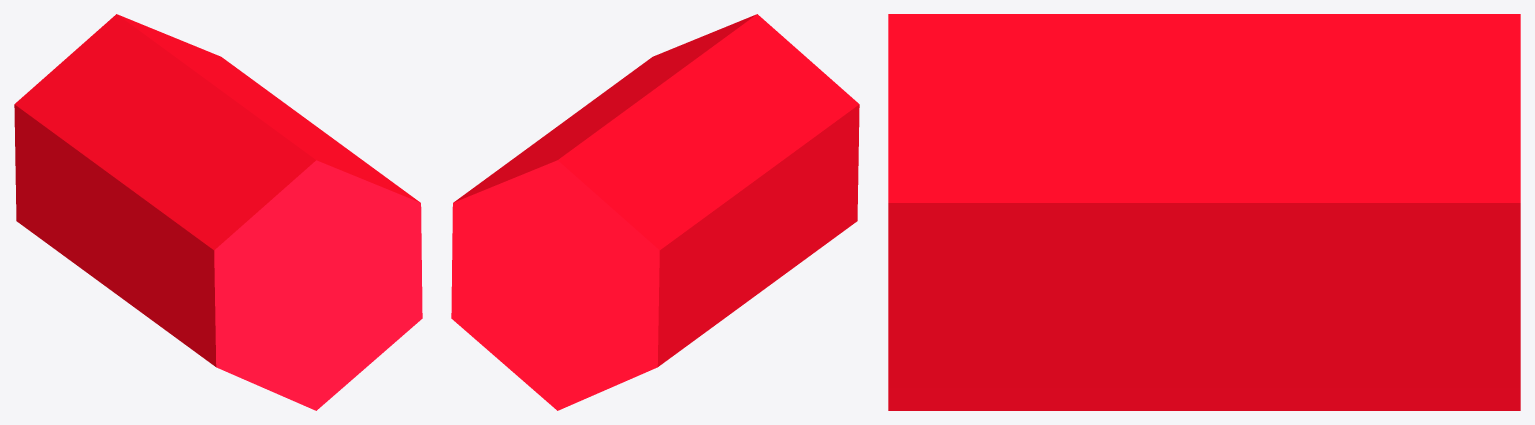
Rendered from fffb94a9-879b-4df0-a0eb-3e6f28705dd1.glb.
3 renders of one model, left to right at view 1: azimuth 30°, elevation 25°; view 2: azimuth 150°, elevation 25°; view 3: azimuth 270°, elevation 25°, orthographic. The views are drawn at different scales.
Parts seen in each view (by area): view 1: ._Zyzol_Red; view 2: ._Zyzol_Red; view 3: ._Zyzol_Red.
Boxes of the visible parts, x1,y1,x2,y2 form: ._Zyzol_Red: [14, 14, 422, 410]; ._Zyzol_Red: [451, 14, 859, 410]; ._Zyzol_Red: [888, 14, 1520, 410].
Size of what is drawn, in the model's own units: 0.0271 by 0.0312 by 0.045.
2 materials, 2 textured.
